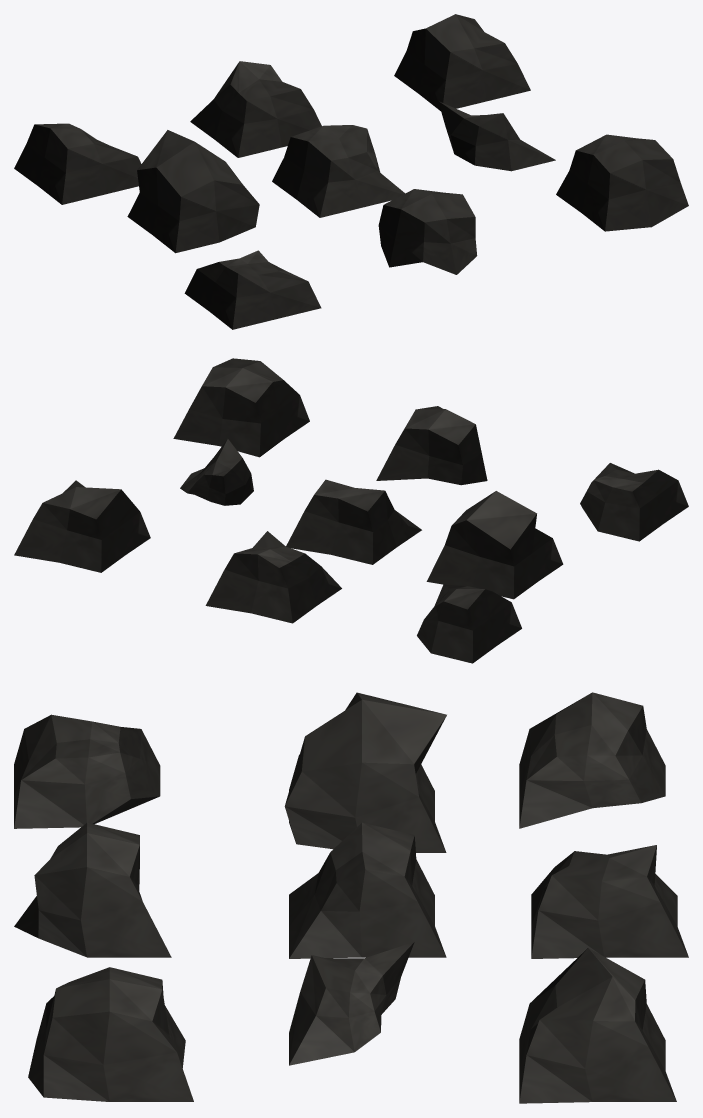
Rendered from Rock.glb.
The picture shows the model from 3 angles, top to bottom: view 1: azimuth 30°, elevation 25°; view 2: azimuth 150°, elevation 25°; view 3: azimuth 270°, elevation 25°; orthographic projection. The views are drawn at different scales.
Visible parts, largest first — view 1: Rock8, Rock7, Rock6, Rock1, Rock2, Rock5, Rock3, Rock4, Rock9; view 2: Rock8, Rock7, Rock6, Rock2, Rock1, Rock3, Rock4, Rock5, Rock9; view 3: Rock8, Rock6, Rock7, Rock1, Rock5, Rock2, Rock4, Rock3, Rock9.
Part boxes in pixels (x1,y1,x2,y2): Rock8: [127, 130, 259, 253]; Rock7: [556, 134, 688, 231]; Rock6: [394, 14, 530, 110]; Rock1: [272, 125, 404, 217]; Rock2: [190, 61, 321, 157]; Rock5: [14, 123, 141, 204]; Rock3: [378, 189, 477, 274]; Rock4: [184, 250, 321, 329]; Rock9: [438, 101, 555, 171]; Rock8: [426, 491, 563, 599]; Rock7: [173, 358, 309, 457]; Rock6: [14, 480, 150, 572]; Rock2: [205, 531, 341, 623]; Rock1: [286, 479, 421, 564]; Rock3: [376, 406, 487, 485]; Rock4: [580, 463, 688, 541]; Rock5: [417, 584, 521, 663]; Rock9: [180, 439, 253, 505]; Rock8: [284, 692, 446, 852]; Rock6: [519, 948, 676, 1103]; Rock7: [28, 967, 193, 1101]; Rock1: [289, 822, 446, 958]; Rock5: [519, 692, 665, 828]; Rock2: [531, 845, 688, 958]; Rock4: [14, 714, 160, 828]; Rock3: [14, 822, 171, 957]; Rock9: [289, 942, 414, 1065].
Bounding box in the file's own units: 4.15 × 0.7351 × 3.49.
Materials: 1 (1 with a texture image).
